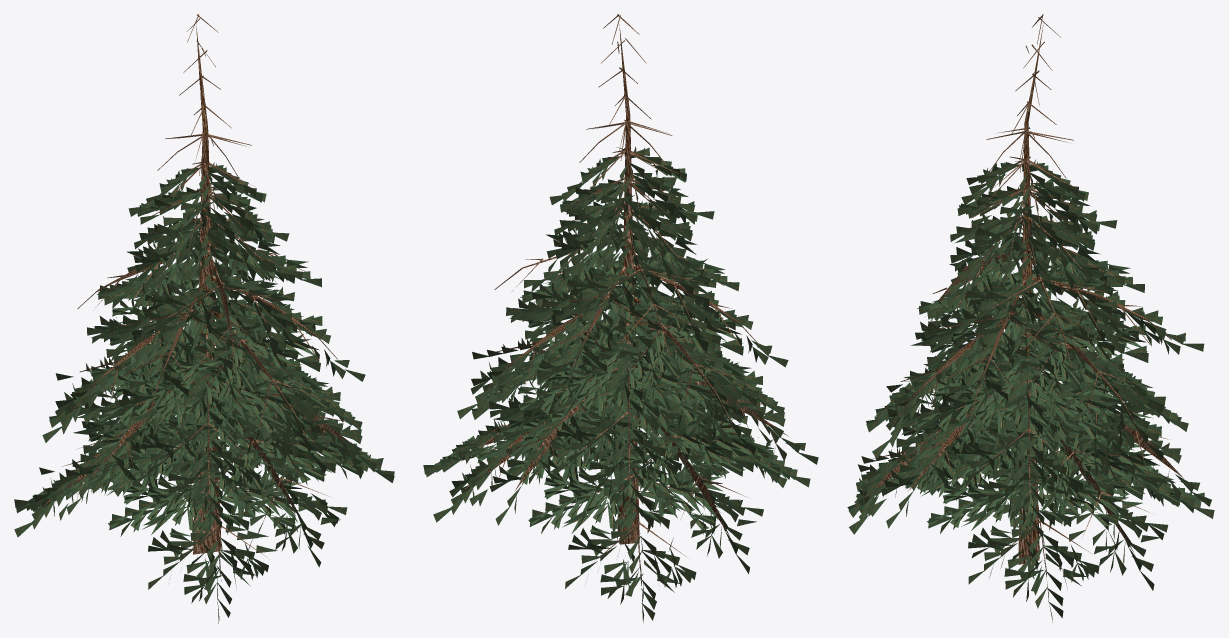
File: pine_5.obj
3 renders of one model, left to right at view 1: azimuth 30°, elevation 25°; view 2: azimuth 150°, elevation 25°; view 3: azimuth 270°, elevation 25°, orthographic. The views are drawn at different scales.
Parts seen in each view (by area): view 1: pine_0.003_nadeln.001, pine_0.003_ast1a.001, pine_0.003_QT_branch.001; view 2: pine_0.003_nadeln.001, pine_0.003_ast1a.001, pine_0.003_QT_branch.001; view 3: pine_0.003_nadeln.001, pine_0.003_ast1a.001, pine_0.003_QT_branch.001.
Part boxes in pixels (x1=…): pine_0.003_nadeln.001: x1=14, y1=162, x2=394, y2=623; pine_0.003_ast1a.001: x1=44, y1=14, x2=365, y2=581; pine_0.003_QT_branch.001: x1=193, y1=23, x2=221, y2=554; pine_0.003_nadeln.001: x1=423, y1=146, x2=818, y2=622; pine_0.003_ast1a.001: x1=462, y1=14, x2=788, y2=589; pine_0.003_QT_branch.001: x1=617, y1=24, x2=639, y2=544; pine_0.003_nadeln.001: x1=847, y1=159, x2=1214, y2=622; pine_0.003_ast1a.001: x1=862, y1=14, x2=1183, y2=579; pine_0.003_QT_branch.001: x1=1018, y1=25, x2=1043, y2=564.
Bounding box in the file's own units: 3.9 × 5.56 × 3.39.
3 materials, 3 textured.
